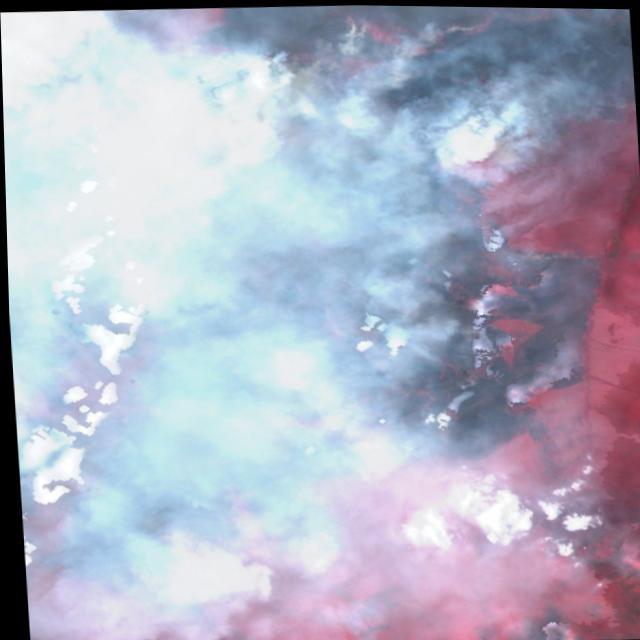fire: (0, 0, 638, 177), (461, 303, 547, 371), (529, 234, 617, 276)
